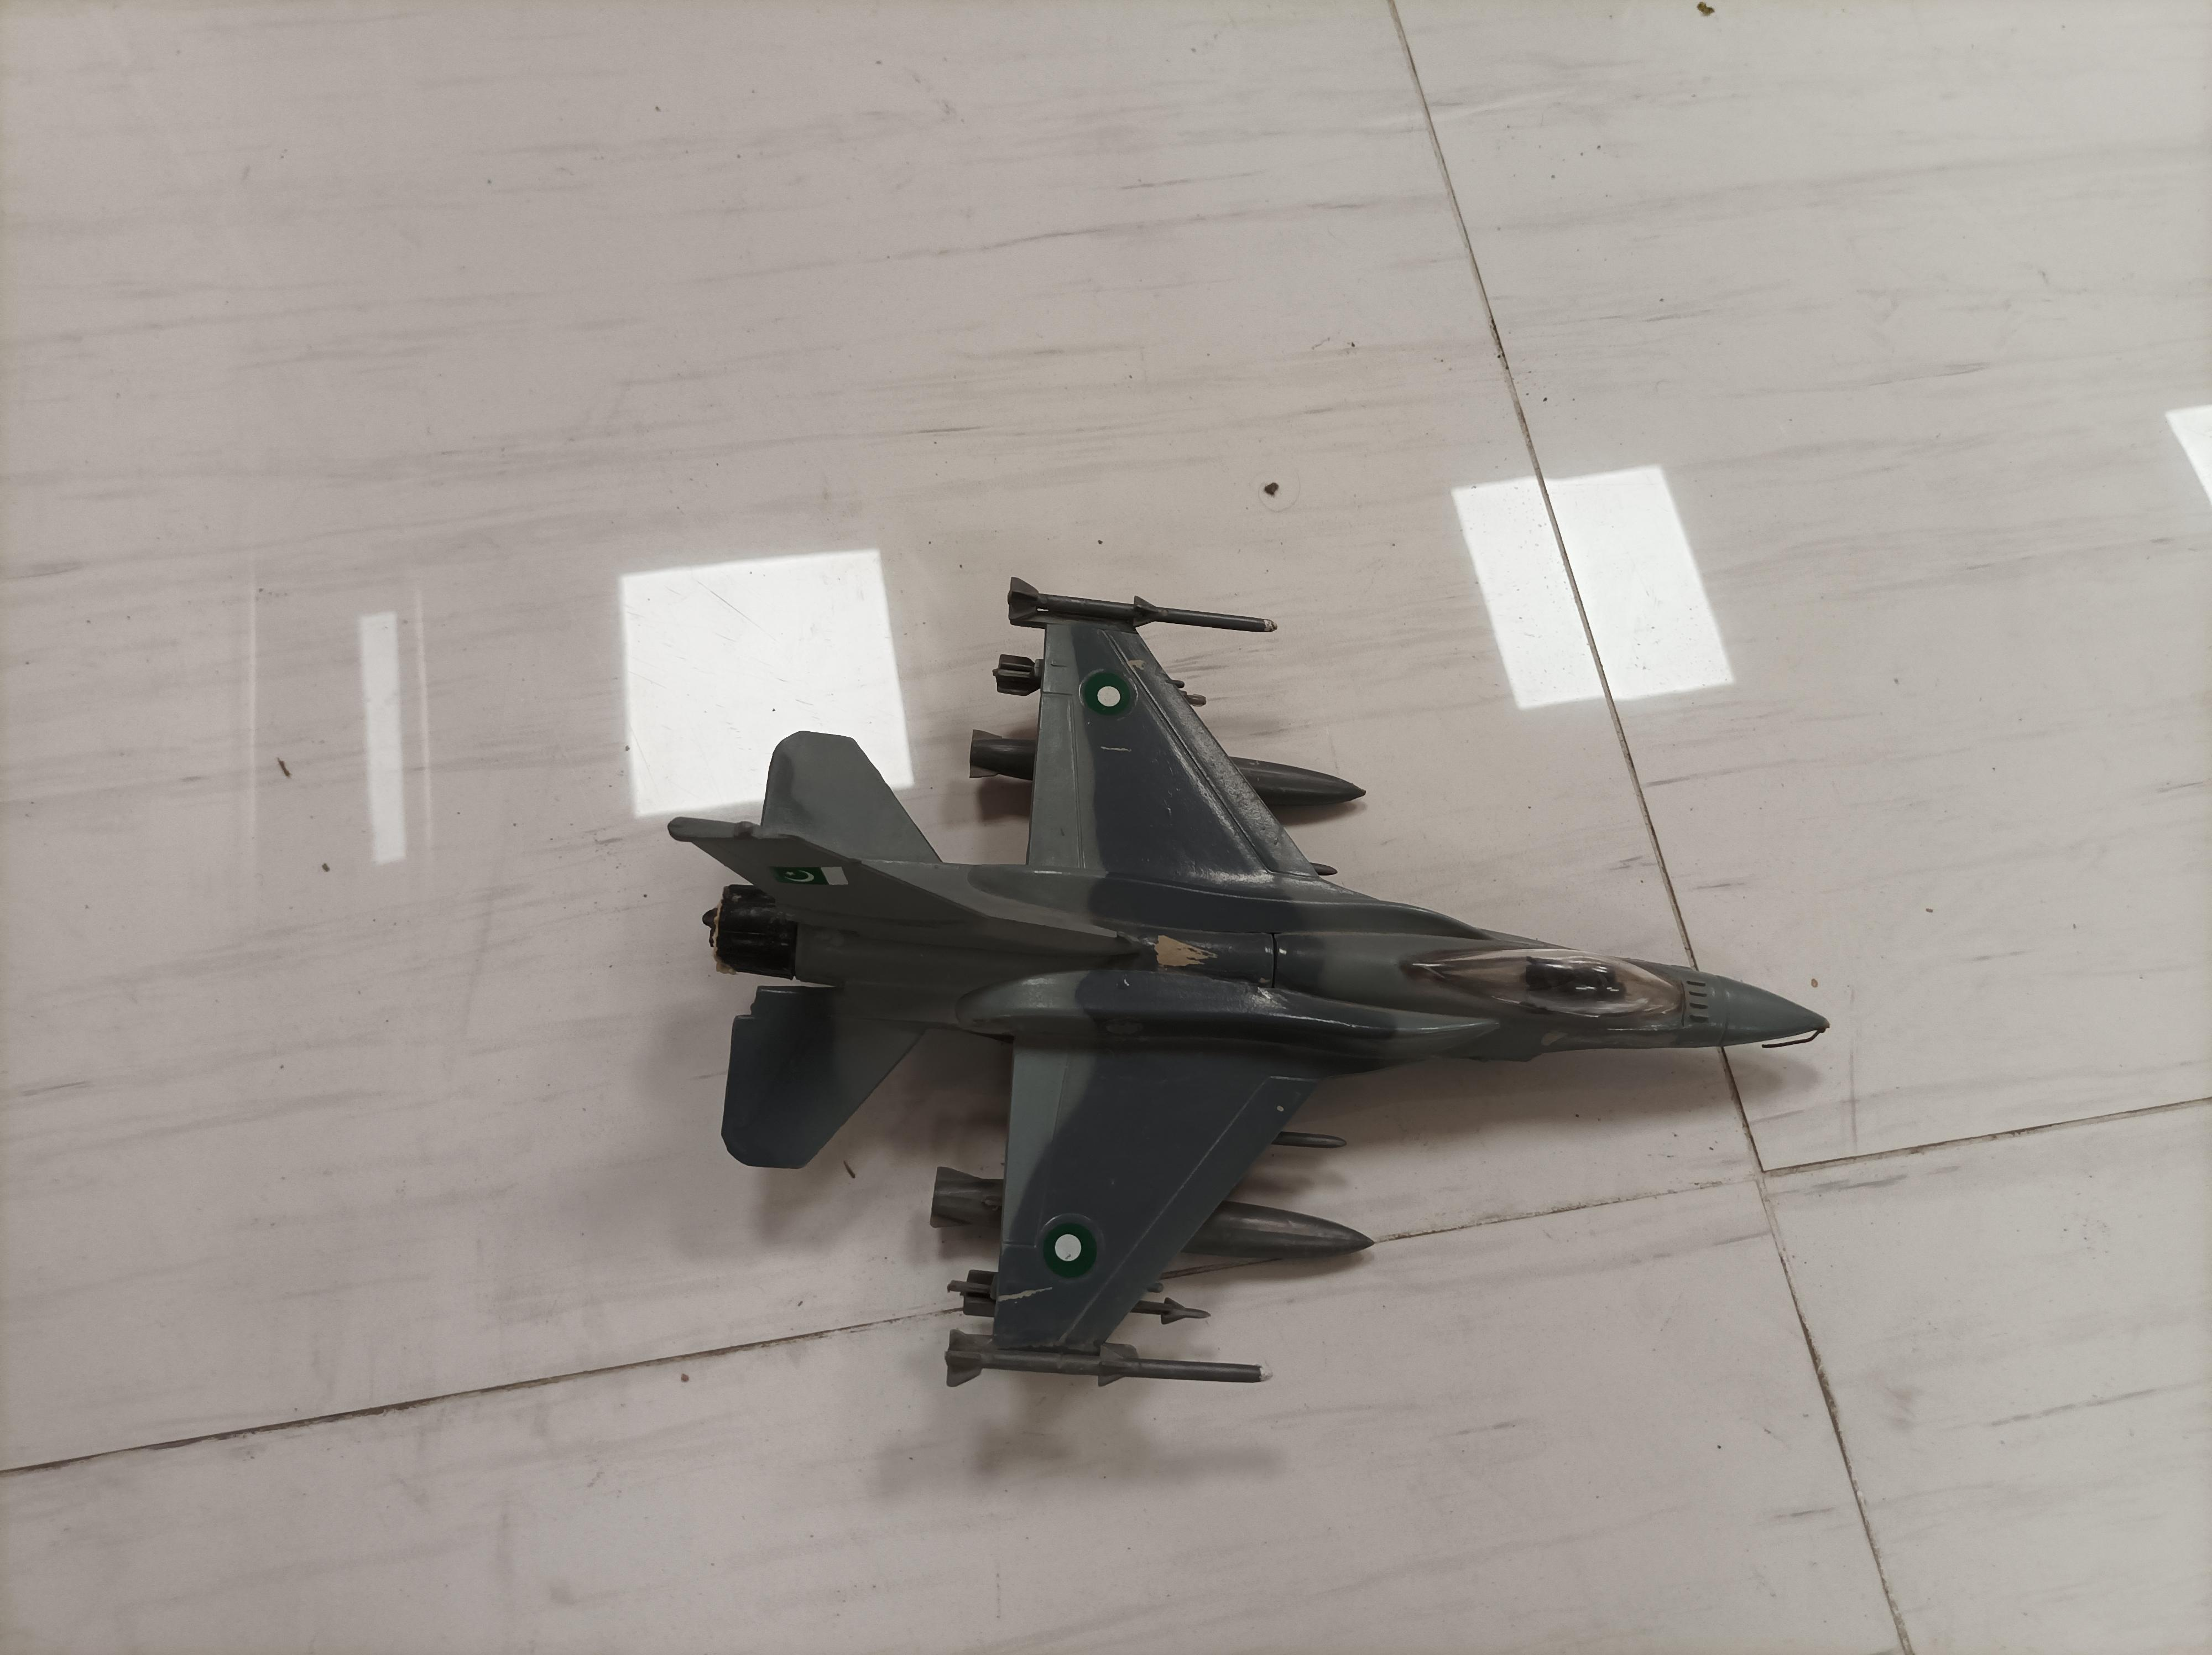Airplane: (641, 539, 1851, 1450)
